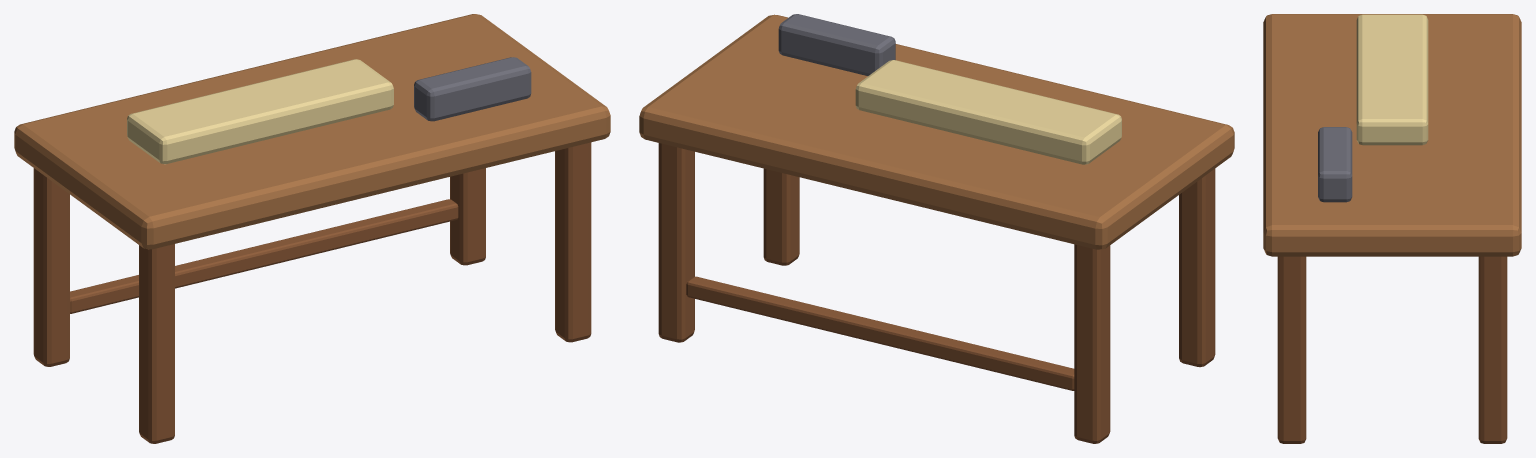
Rendered from ban-moc.glb.
3 views of the same model, side by side, from view 1: azimuth 30°, elevation 25°; view 2: azimuth 150°, elevation 25°; view 3: azimuth 270°, elevation 25° (orthographic). The views are drawn at different scales.
Parts seen in each view (by area): view 1: ban-moc-0, ban-moc-6, ban-moc-5, ban-moc-4, ban-moc-3, ban-moc-1, ban-moc-7, ban-moc-2; view 2: ban-moc-0, ban-moc-6, ban-moc-5, ban-moc-1, ban-moc-2, ban-moc-3, ban-moc-7, ban-moc-4; view 3: ban-moc-0, ban-moc-6, ban-moc-2, ban-moc-4, ban-moc-7.
Part boxes in pixels (x1,y1,x2,y2): ban-moc-0: (14, 14, 610, 249); ban-moc-6: (127, 59, 393, 164); ban-moc-5: (70, 199, 458, 313); ban-moc-4: (555, 142, 591, 342); ban-moc-3: (139, 244, 174, 443); ban-moc-1: (33, 168, 69, 366); ban-moc-7: (414, 57, 531, 121); ban-moc-2: (450, 168, 485, 265); ban-moc-0: (639, 14, 1234, 249); ban-moc-6: (855, 60, 1121, 164); ban-moc-5: (686, 276, 1074, 390); ban-moc-1: (1074, 244, 1110, 443); ban-moc-2: (658, 143, 694, 342); ban-moc-3: (1179, 168, 1215, 367); ban-moc-7: (778, 14, 895, 75); ban-moc-4: (763, 168, 799, 265); ban-moc-0: (1263, 14, 1521, 256); ban-moc-6: (1356, 14, 1428, 145); ban-moc-2: (1478, 256, 1507, 443); ban-moc-4: (1277, 256, 1306, 443); ban-moc-7: (1318, 127, 1352, 202).
Size of the model in its own units: 1.8 by 0.98 by 0.9.
